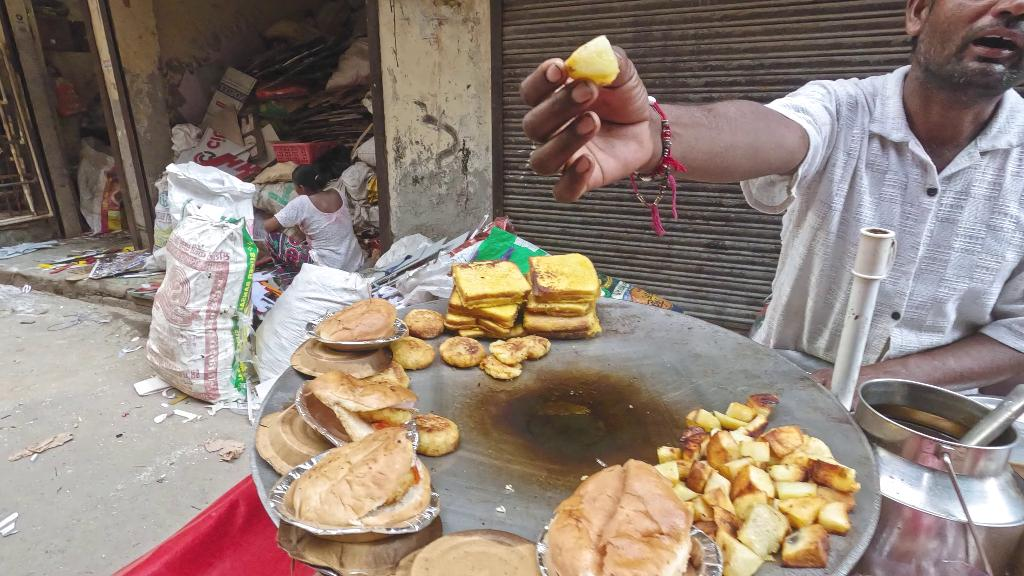garbage: (136, 171, 257, 408), (9, 428, 77, 467)
